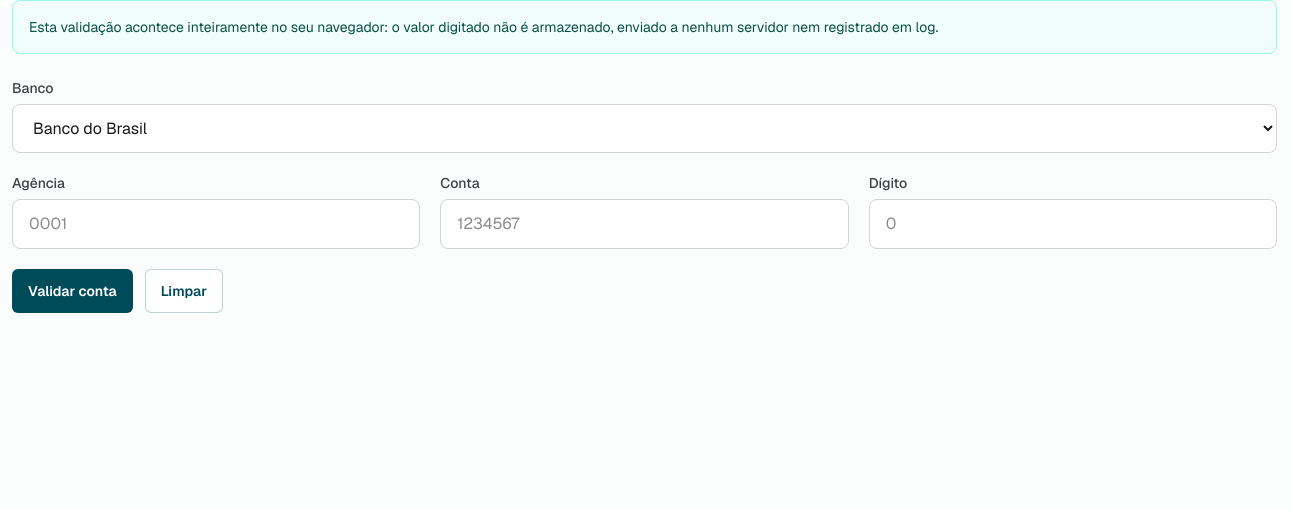
Test: ValidadorContaBancariaTool › mostra formato inválido quando um campo obrigatório está vazio
Type "1234" into the field labelled "Agência" at {"x": 216, "y": 224}, box [12,199,420,249]
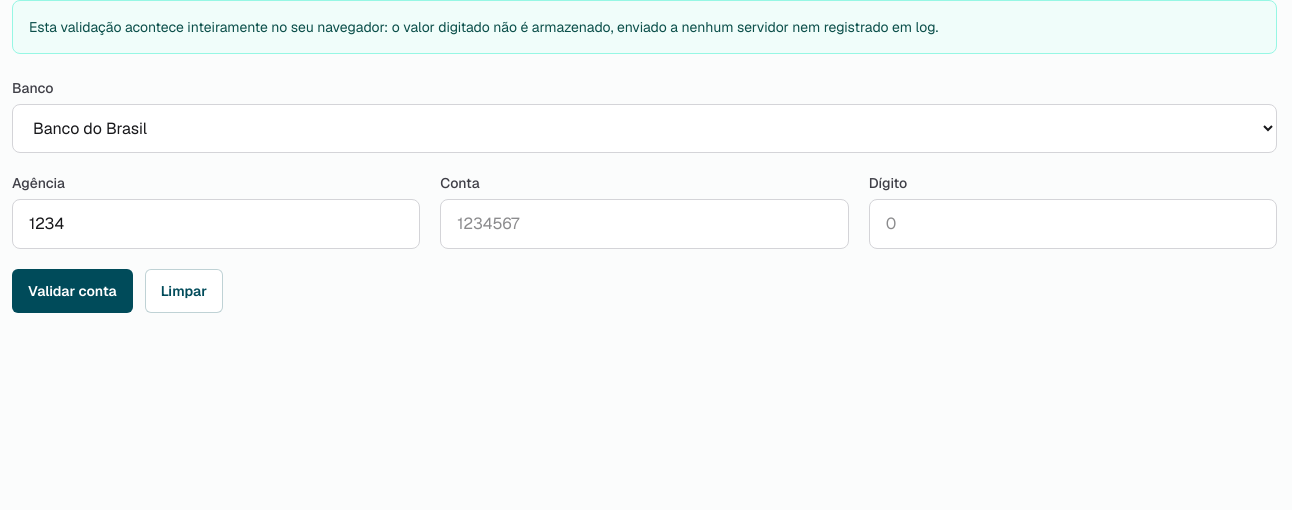
Click the button "Validar conta" at {"x": 72, "y": 291}, box [12,269,133,313]
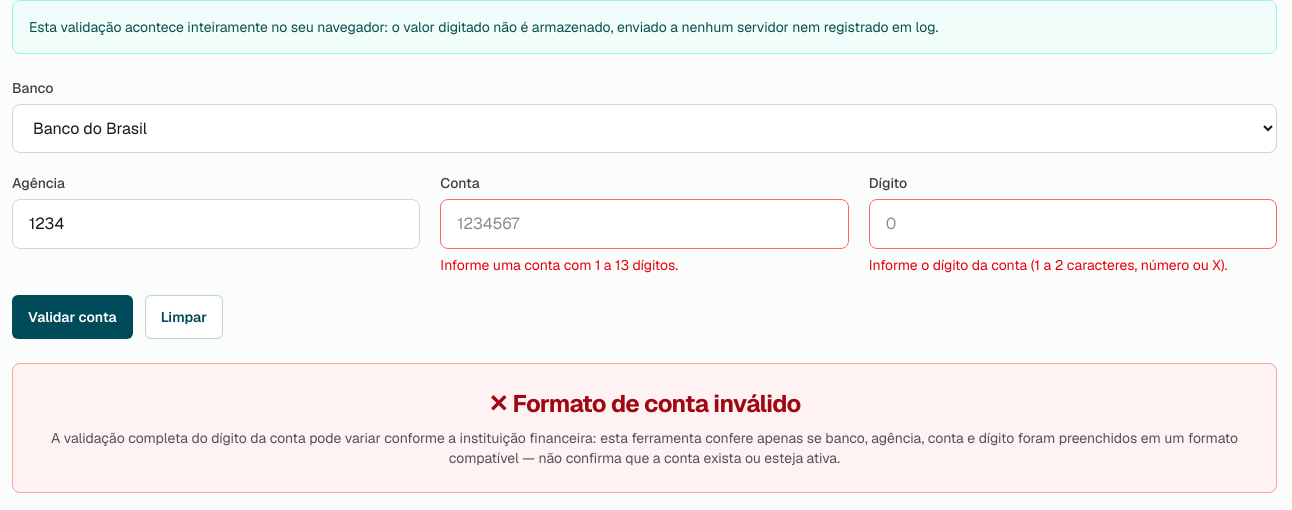
expect the text "✕ Formato de conta inválido" is shown: met, box [488,388,801,419]
expect the text "Informe uma conta com 1 a 13 dígitos." is shown: met, box [440,256,678,274]
